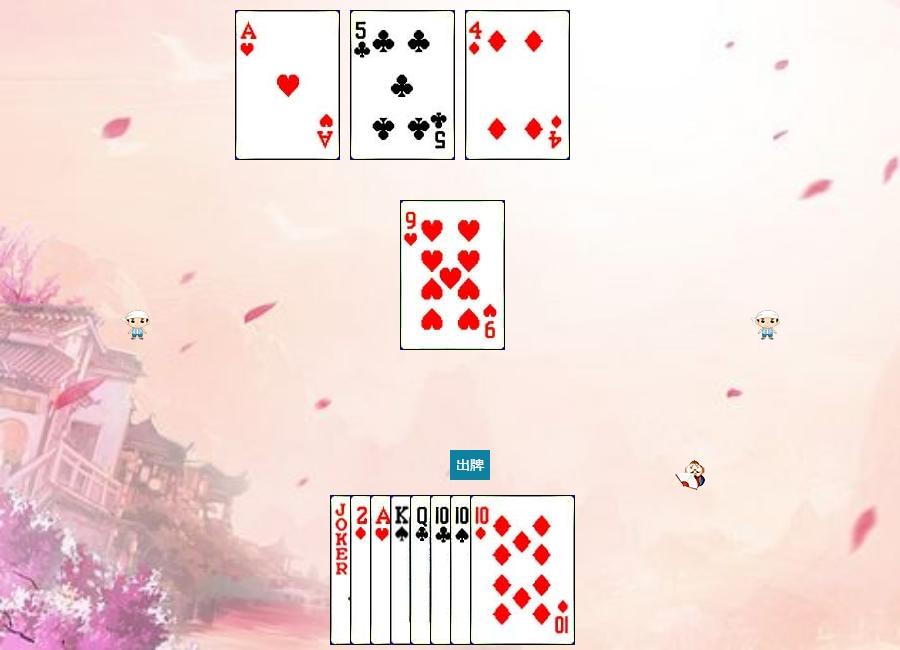10~1: (470, 495, 575, 645)
10~2: (430, 495, 535, 645)
10~4: (450, 495, 555, 645)
12~2: (410, 495, 515, 645)
13~4: (390, 495, 495, 645)
14~3: (235, 10, 340, 160), (370, 495, 475, 645)
15~1: (350, 495, 455, 645)
18~4: (330, 495, 435, 645)
4~1: (465, 10, 570, 160)
5~2: (350, 10, 455, 160)
9~3: (400, 200, 505, 350)
